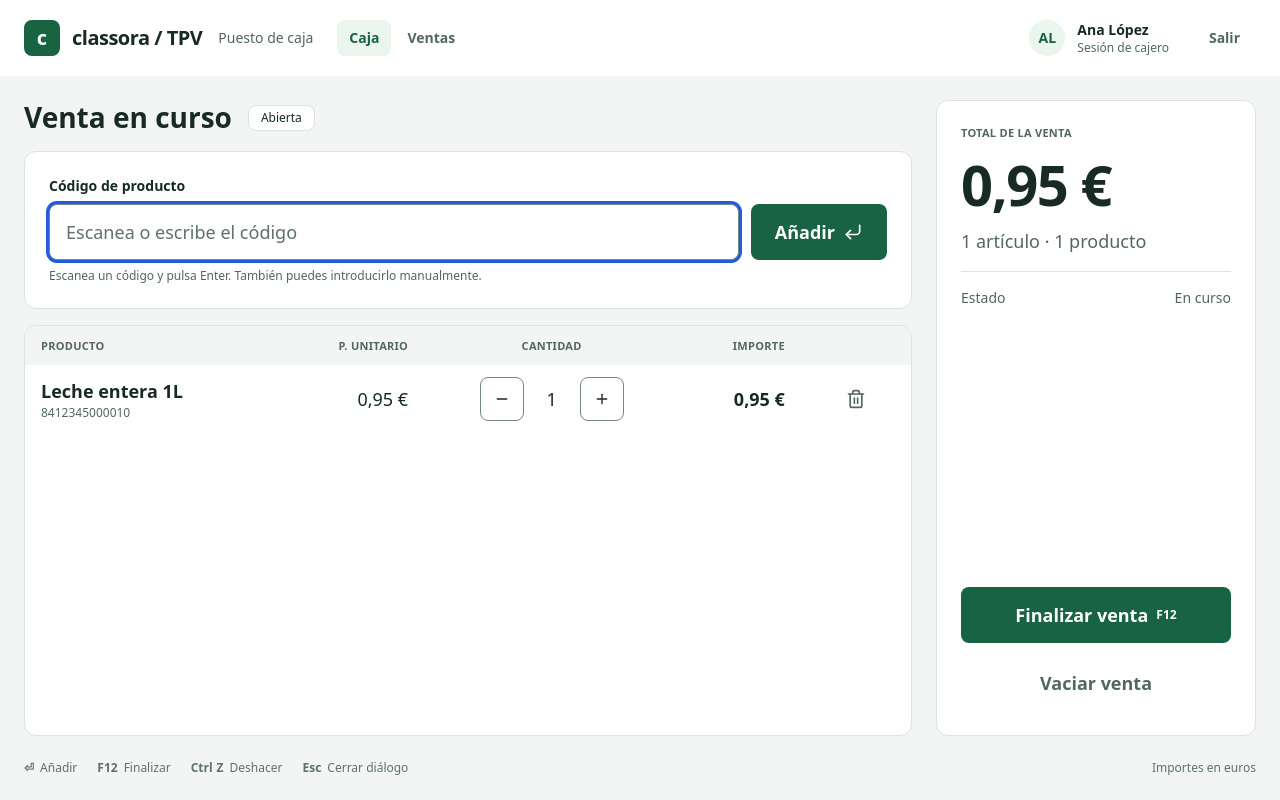
Test: Checkout: Screen Integration › I-09: should complete the sale and open a new empty one, keeping the paid total visible
Expected: the field labelled "Código de producto" is enabled, [49,204,739,260]
Click the button "Finalizar venta F12" at x=1096, y=615, box [961,587,1231,643]
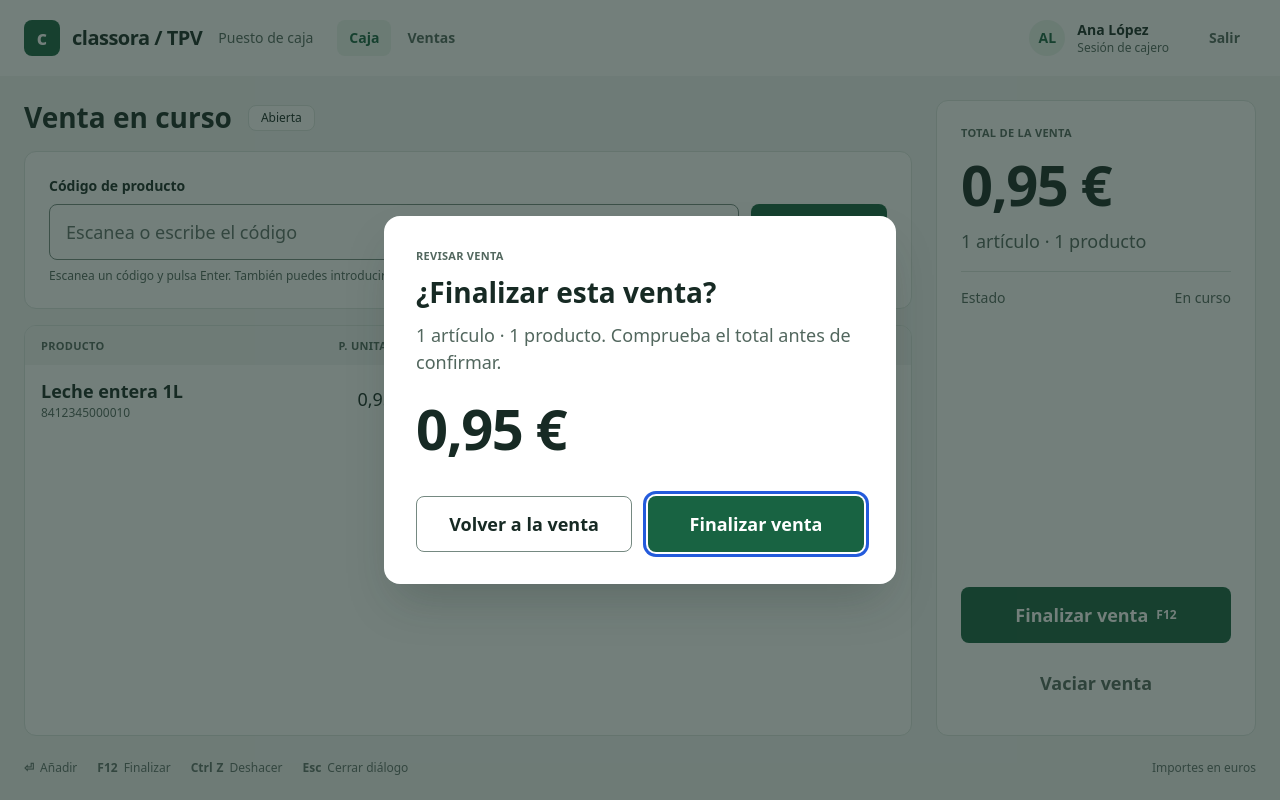
Click the button "Finalizar venta" at x=756, y=524, box [648,496,864,552]
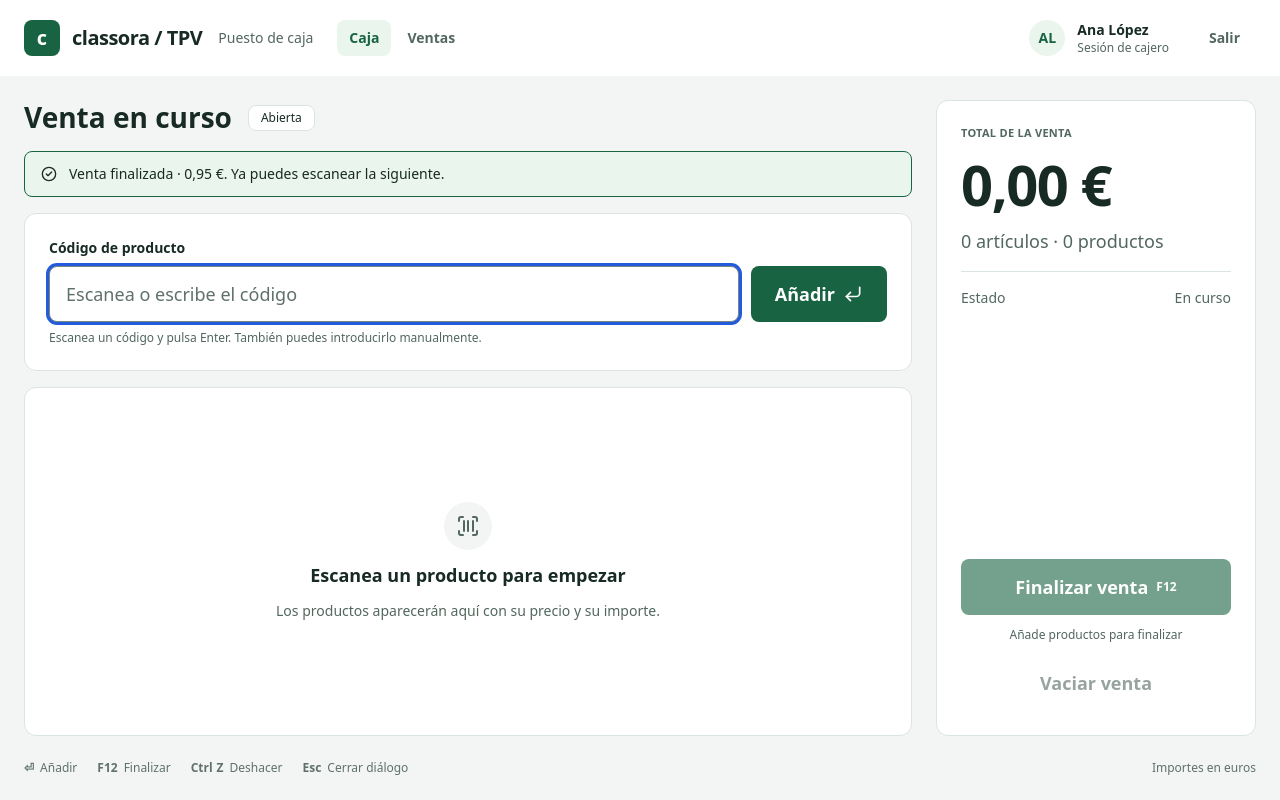
Expected: the text "Escanea un producto para empezar" is shown, [310,562,626,589]
Expected: the text "Venta finalizada · 0,95 €. Ya puedes escanear la siguiente." is shown, [69,164,444,184]
Type "8412345000119" into the field labelled "Código de producto" at x=394, y=294, box [49,266,739,322]
Then press Enter
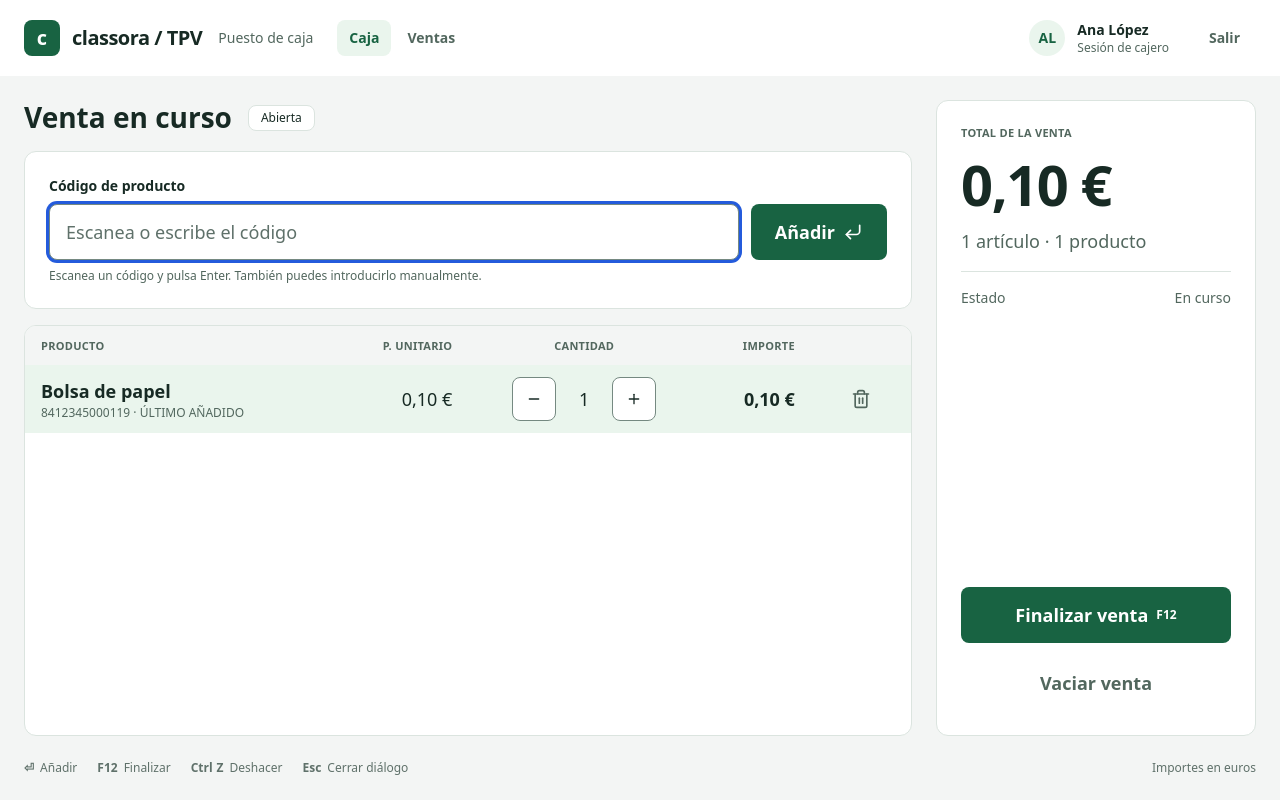
Expected: the text "Venta finalizada ·" is gone
